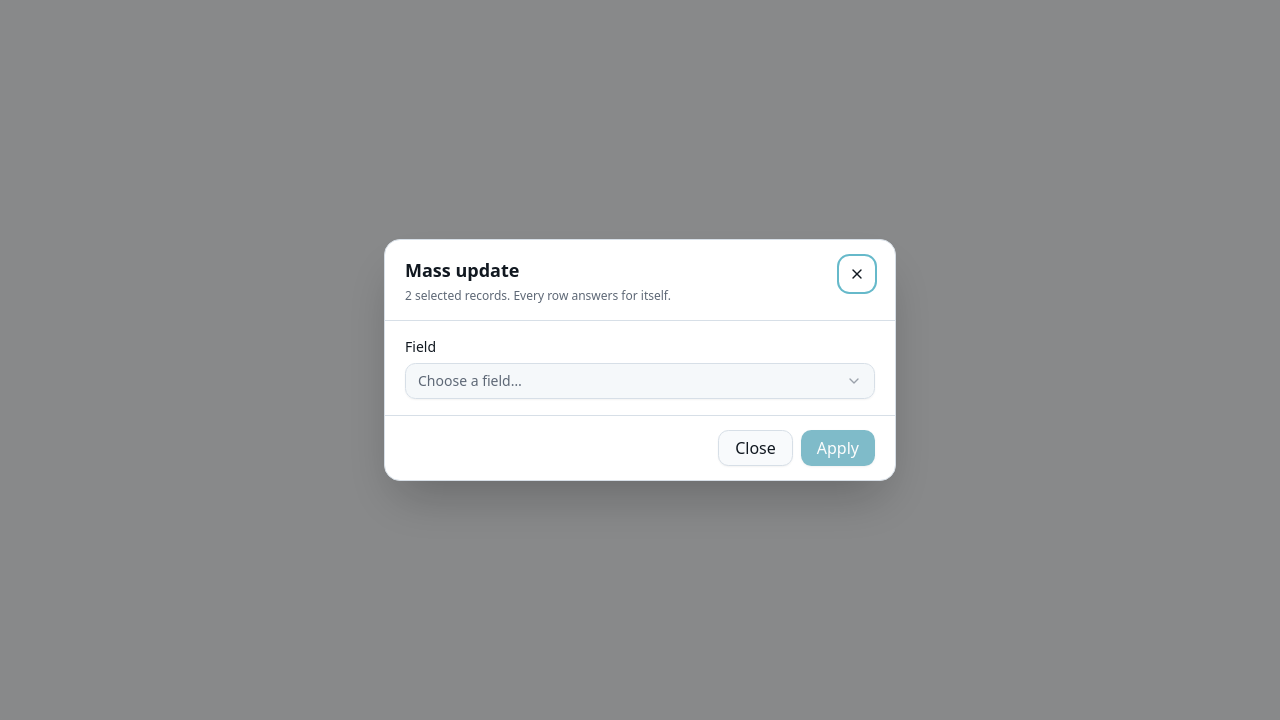
the mass-update dialog › sends the change once with each row's observed version
Click the dropdown named "Field to change". click: (470, 380)
box: [405,363,875,399]
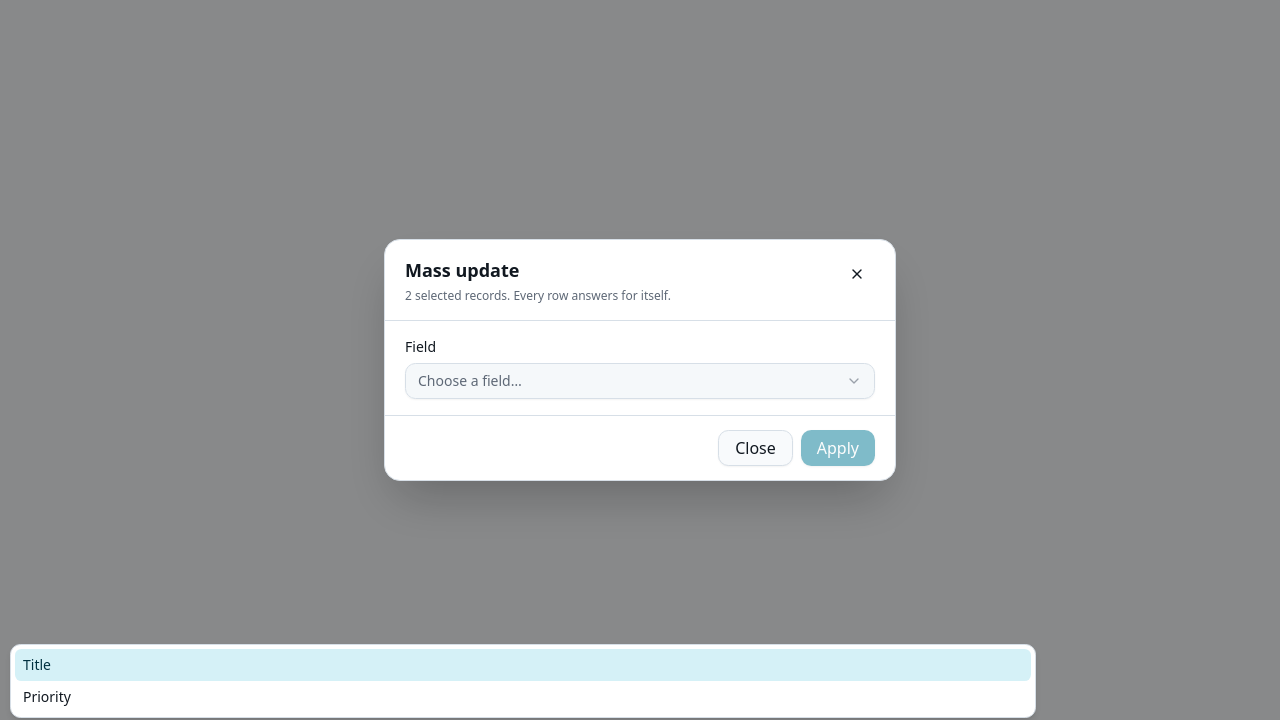
Click the option "Priority". click: (47, 696)
box: [23,687,71,706]
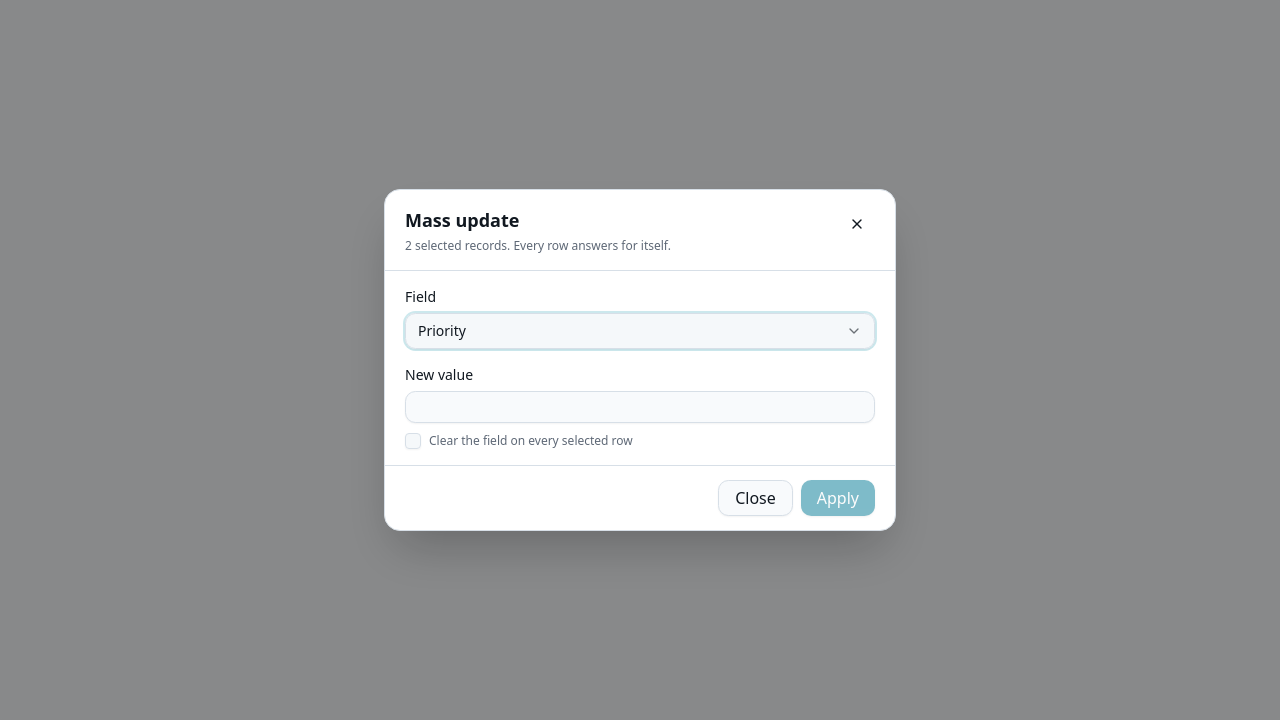
Type "high" into the field named "Priority". click: (640, 407)
box: [405,391,875,423]
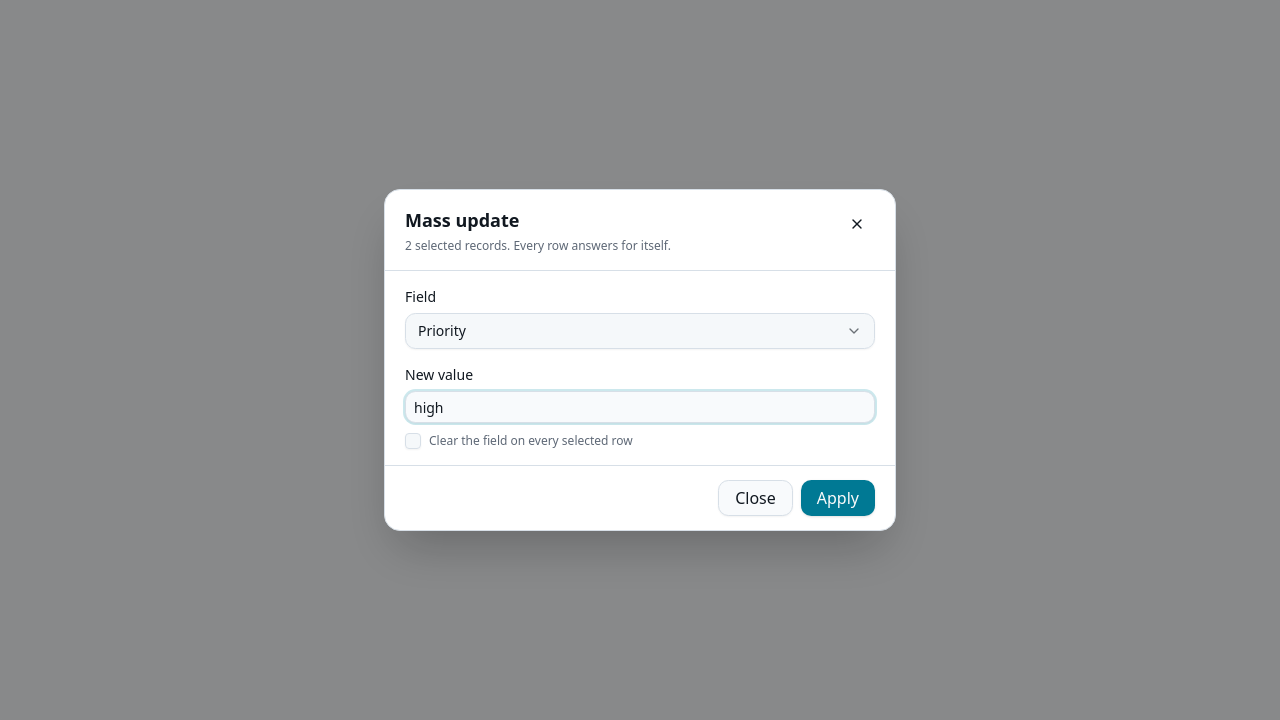
Click the button "Apply". click: (838, 498)
box: [801,480,875,516]
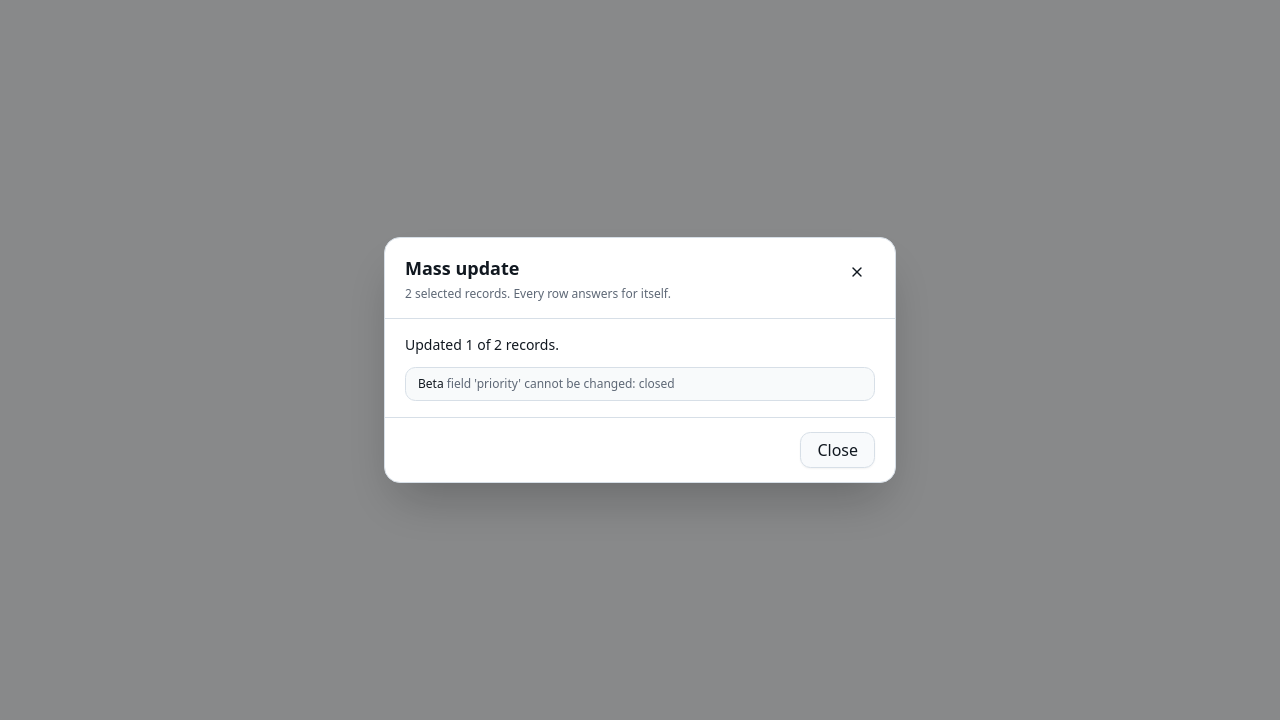
Now the text "Updated 1 of 2 records." is shown, box [405,335,559,354]
Now the number of list items with test id "mass-update-refusal" is 1, box [405,367,875,401]
Now the list item with test id "mass-update-refusal" shows "Beta", box [418,375,444,392]
